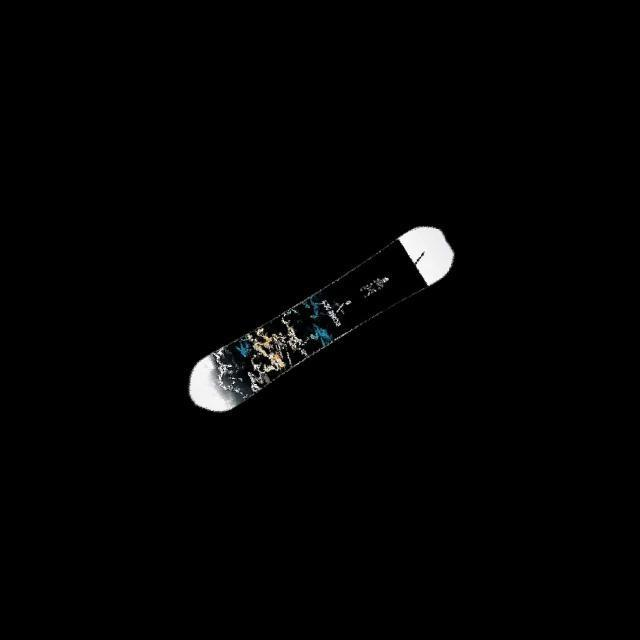Snowboard: (187, 223, 455, 413)
